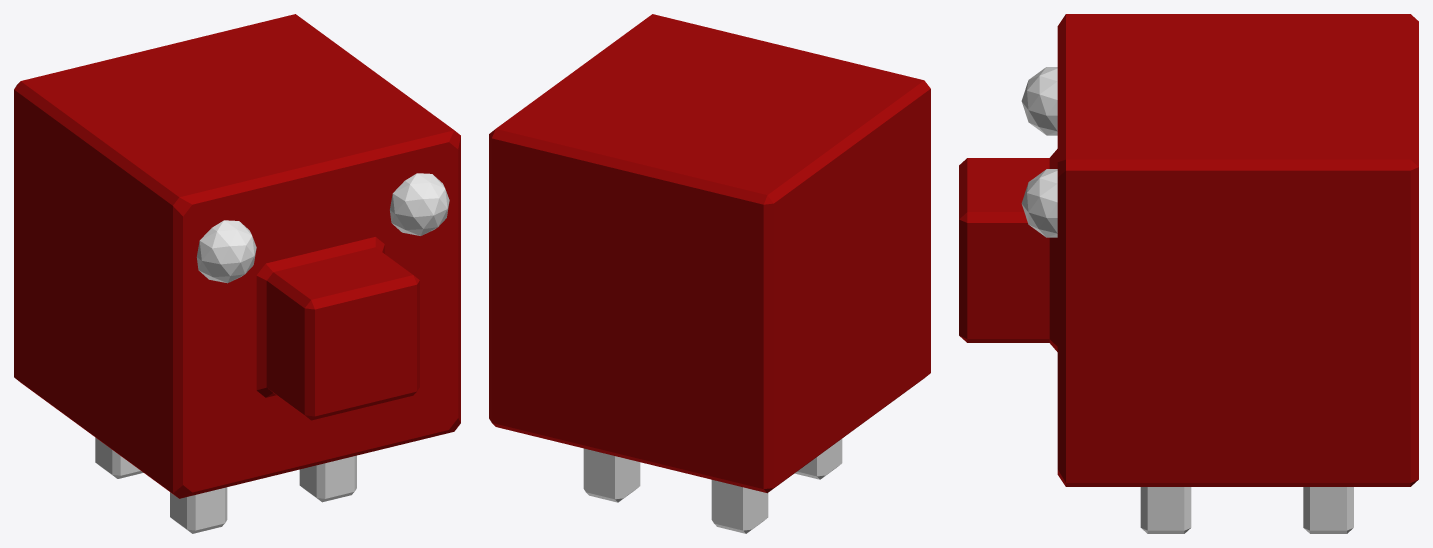
File: little_cube_pet.gltf
3 renders of one model, left to right at view 1: azimuth 30°, elevation 25°; view 2: azimuth 150°, elevation 25°; view 3: azimuth 270°, elevation 25°, orthographic. The views are drawn at different scales.
Visible parts, largest first — view 1: Pet, Eye_L, Eye_R, Foot_LF, Foot_RF, Foot_LB; view 2: Pet, Foot_LB, Foot_RB, Foot_LF; view 3: Pet, Foot_RF, Foot_RB, Eye_L, Eye_R.
Boxes of the visible parts, x1,y1,x2,y2 form: Pet: (14,14,460,498); Eye_L: (196,220,256,283); Eye_R: (390,173,449,235); Foot_LF: (170,487,227,533); Foot_RF: (299,455,356,502); Foot_LB: (95,437,143,478); Pet: (489,14,930,493); Foot_LB: (711,480,768,533); Foot_RB: (583,448,640,502); Foot_LF: (794,439,842,479); Pet: (959,14,1418,486); Foot_RF: (1140,487,1191,533); Foot_RB: (1303,487,1353,533); Eye_L: (1021,67,1057,135); Eye_R: (1021,169,1057,237).
Bounding box in the file's own units: 2 × 2.5 × 2.55.
